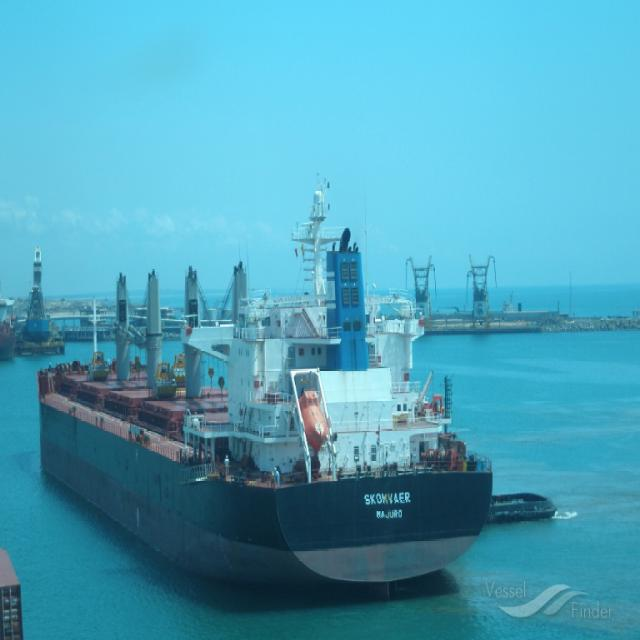OCR: (360, 485, 416, 529)
